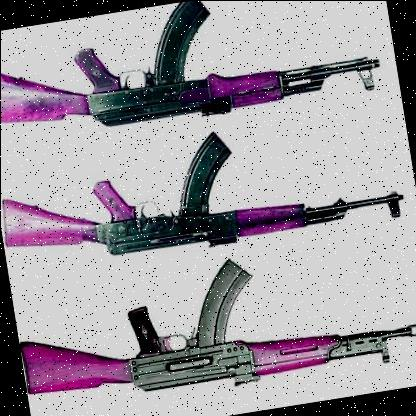rifle: (9, 219, 416, 416), (0, 107, 411, 300), (0, 0, 386, 175)
